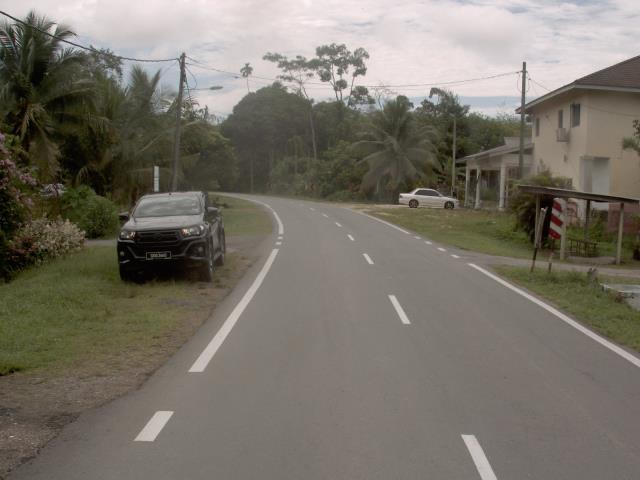traffic_sign: (543, 196, 568, 244)
